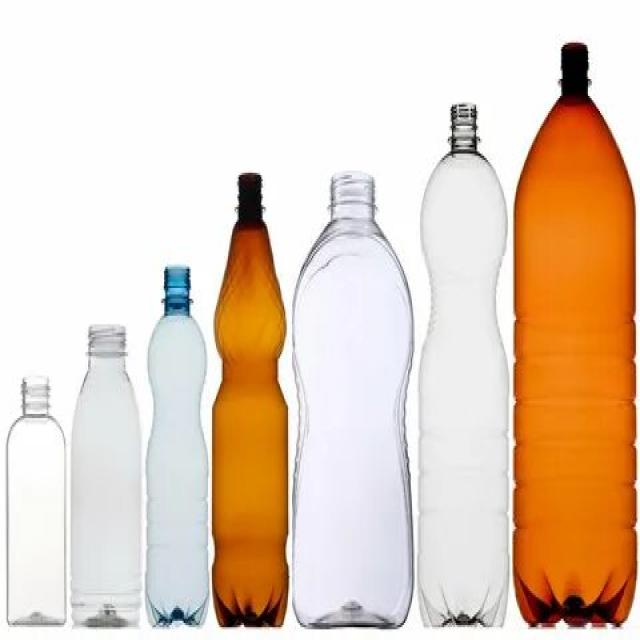blue: (147, 262, 210, 628)
brown: (515, 67, 637, 627), (212, 171, 290, 630)
